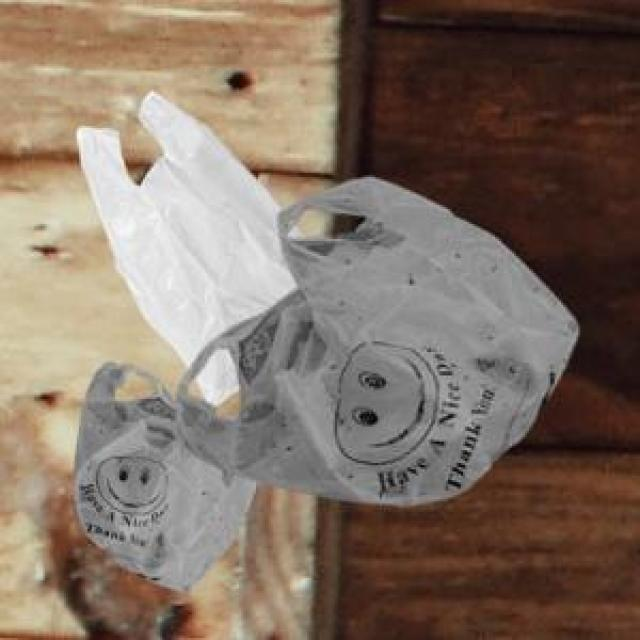waste: (81, 92, 579, 504), (80, 400, 251, 587)
